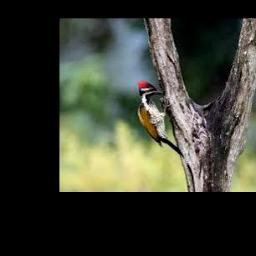Woodpecker: (138, 81, 184, 156)
